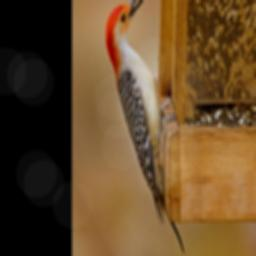Woodpecker: (105, 0, 185, 254)
